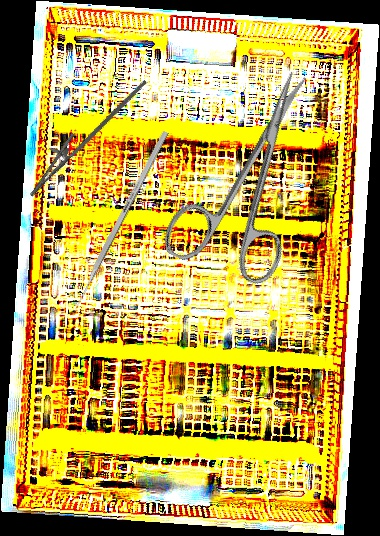Iris Scissors: (157, 51, 356, 298)
Needle Holder: (19, 59, 148, 210)
Pusher: (67, 130, 169, 321)
